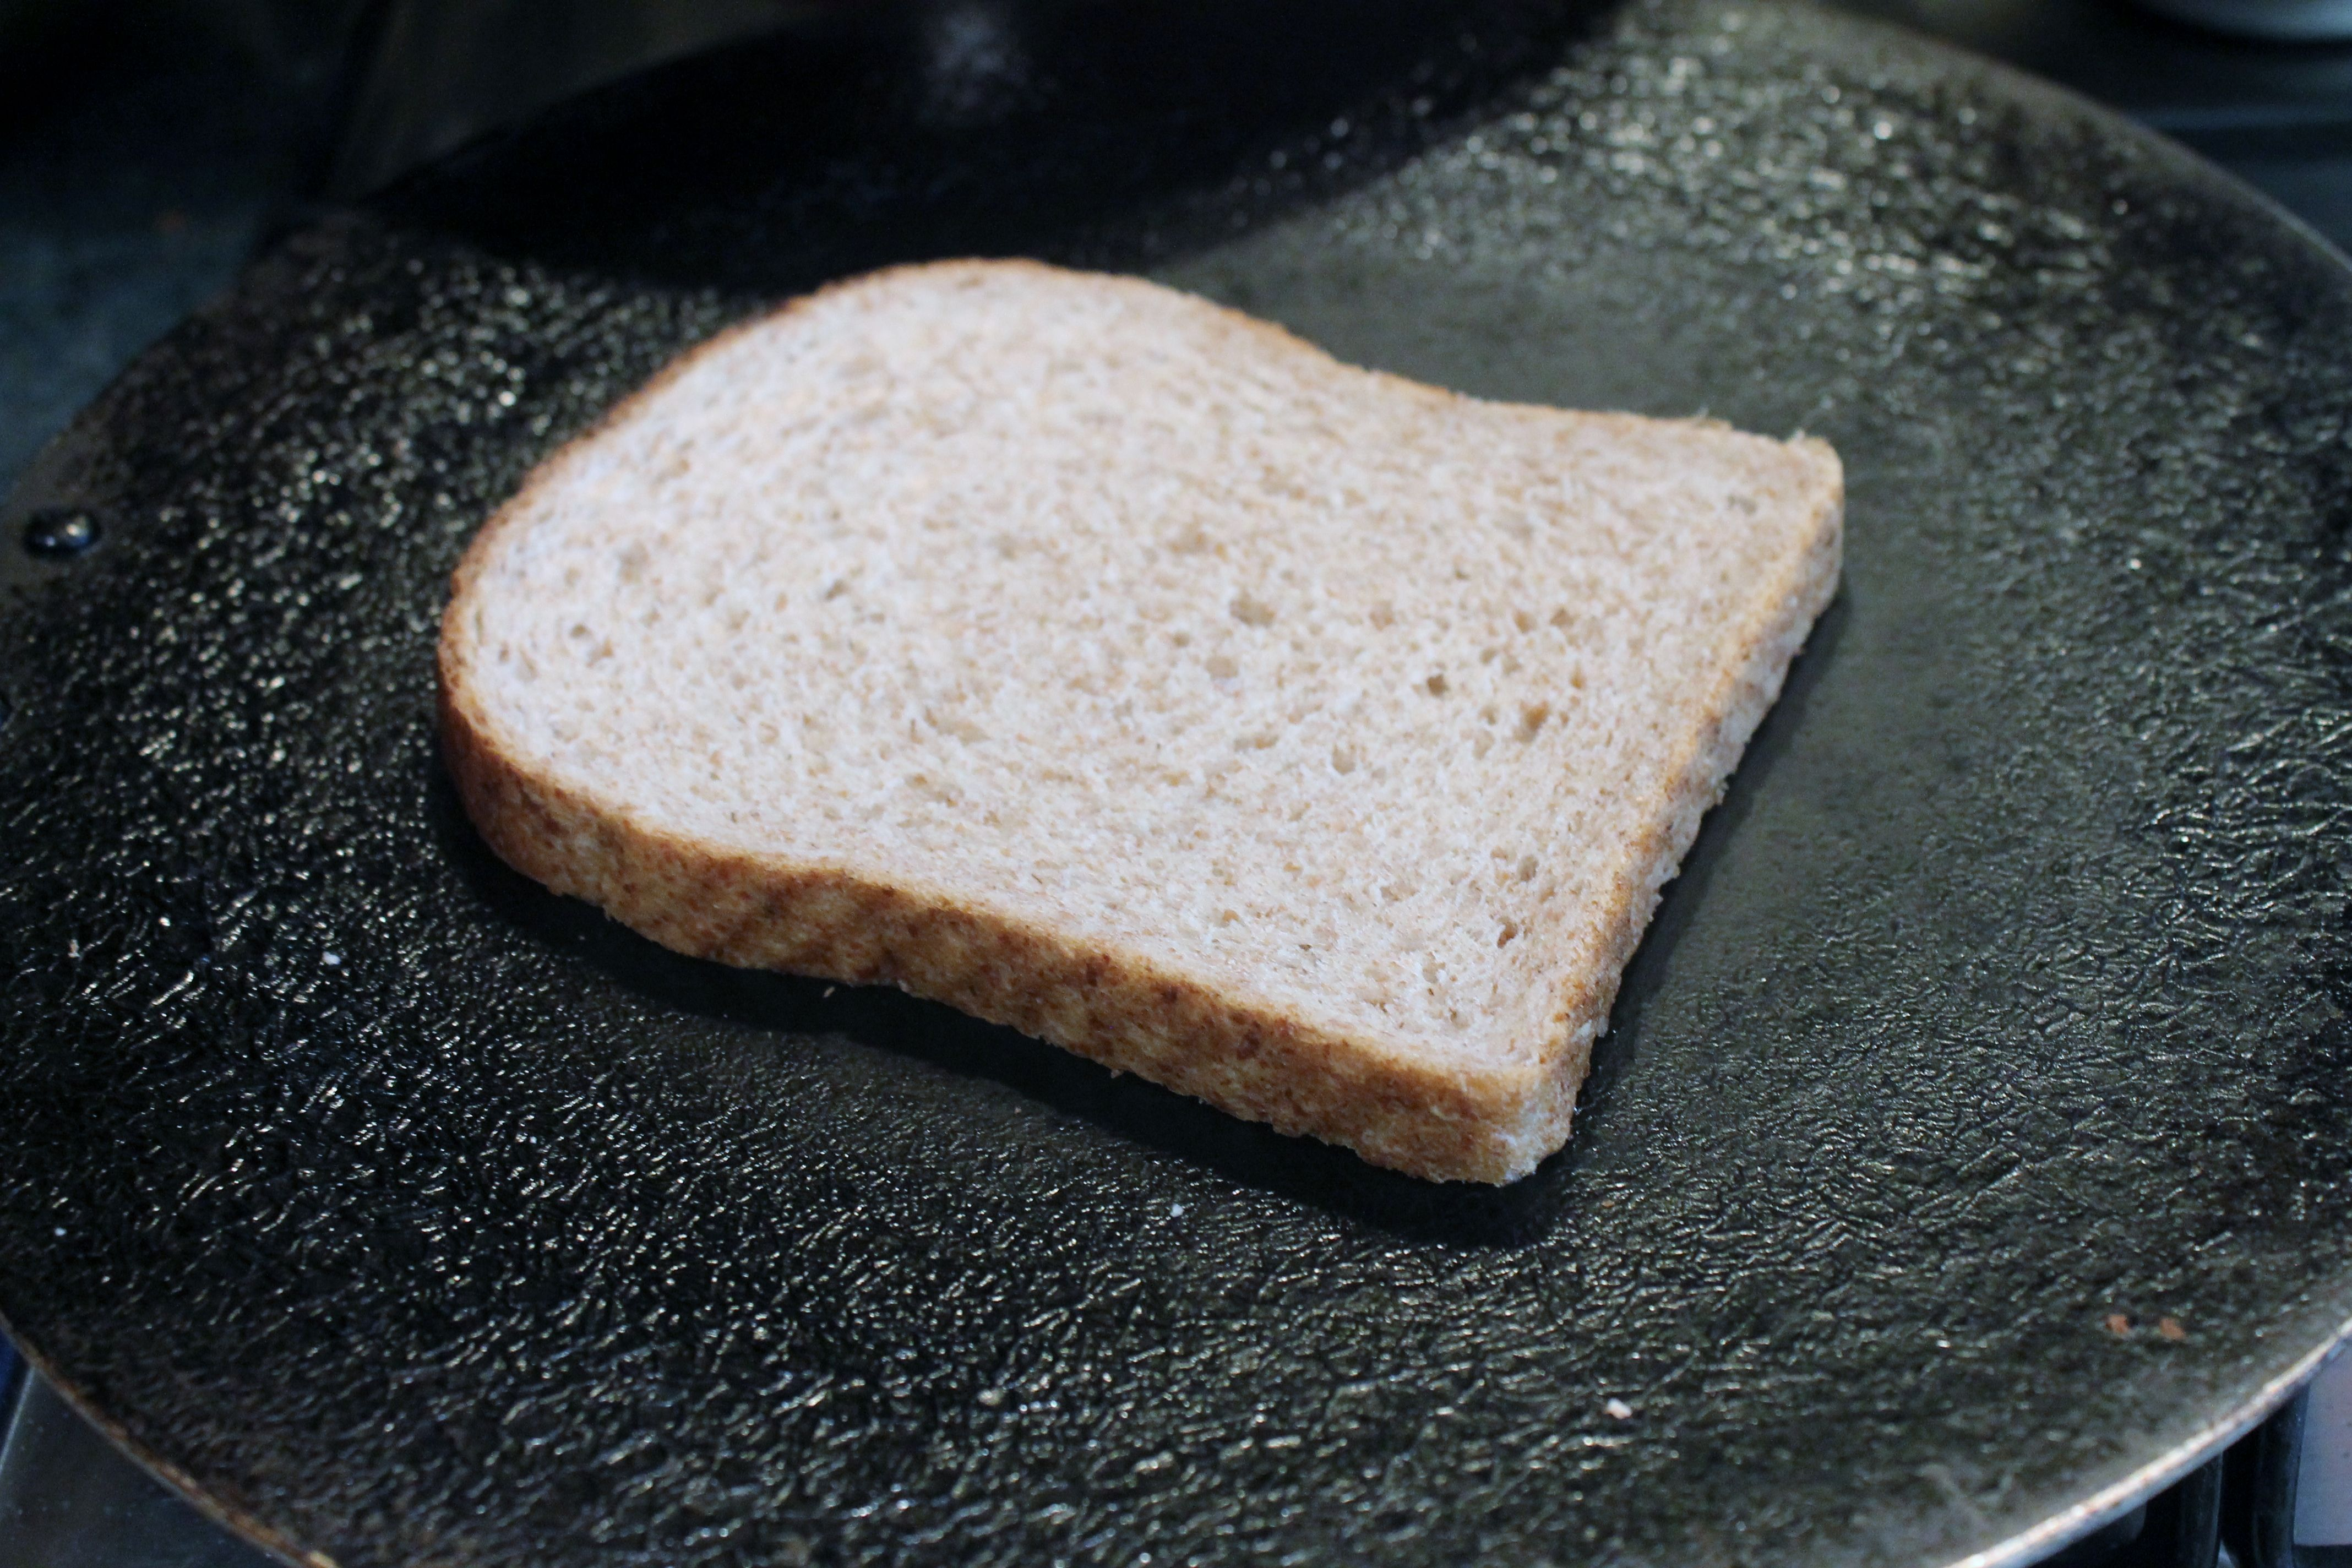slice of bread: (441, 213, 1813, 1211)
